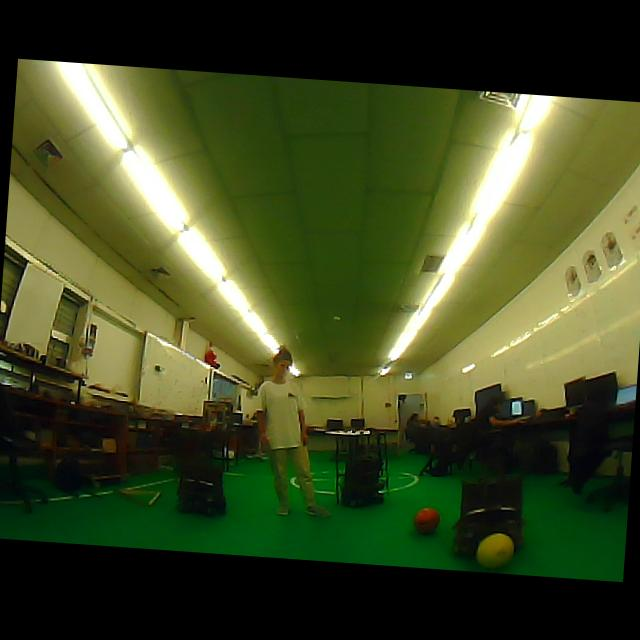ball: (476, 533, 514, 568), (413, 508, 439, 533)
robot: (453, 478, 524, 556), (326, 428, 388, 506), (176, 429, 226, 515)
